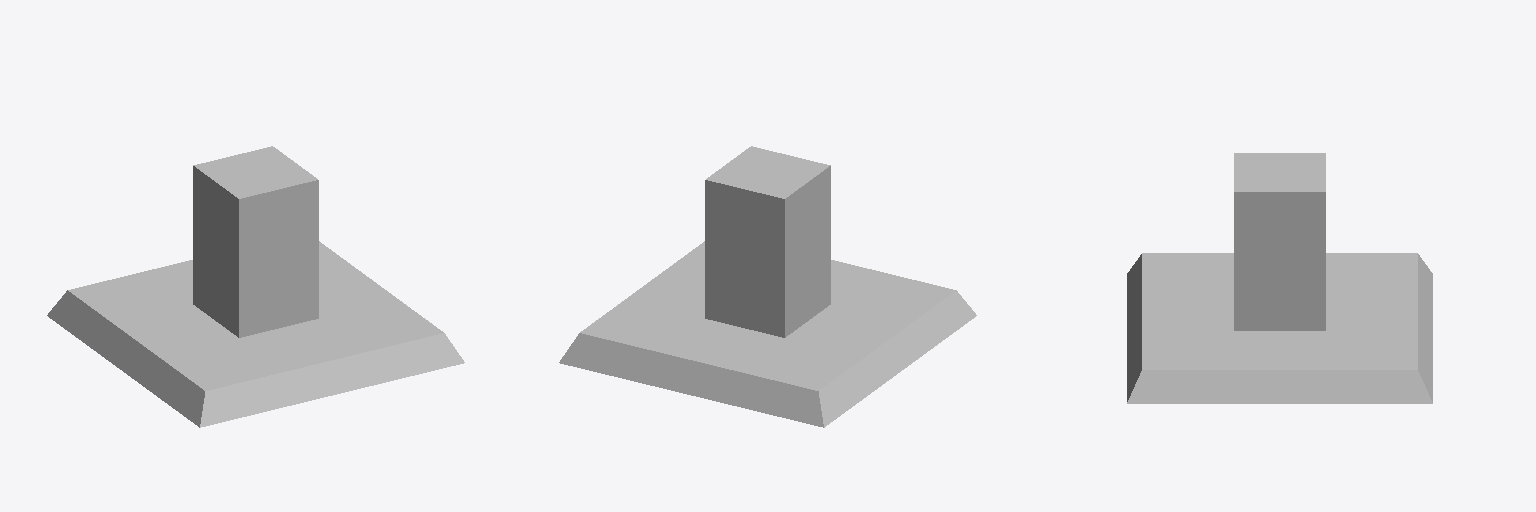
The model's file is platform-free-hover.obj.
3 views of the same model, side by side, from view 1: azimuth 30°, elevation 25°; view 2: azimuth 150°, elevation 25°; view 3: azimuth 270°, elevation 25° (orthographic).
Parts seen in each view (by area): view 1: Cube.004_Cube.008; view 2: Cube.004_Cube.008; view 3: Cube.004_Cube.008.
Part boxes in pixels (x1,y1,x2,y2): Cube.004_Cube.008: (47,146,464,427); Cube.004_Cube.008: (559,146,976,427); Cube.004_Cube.008: (1127,153,1432,403).
Bounding box in the file's own units: 2 × 1.2 × 2.